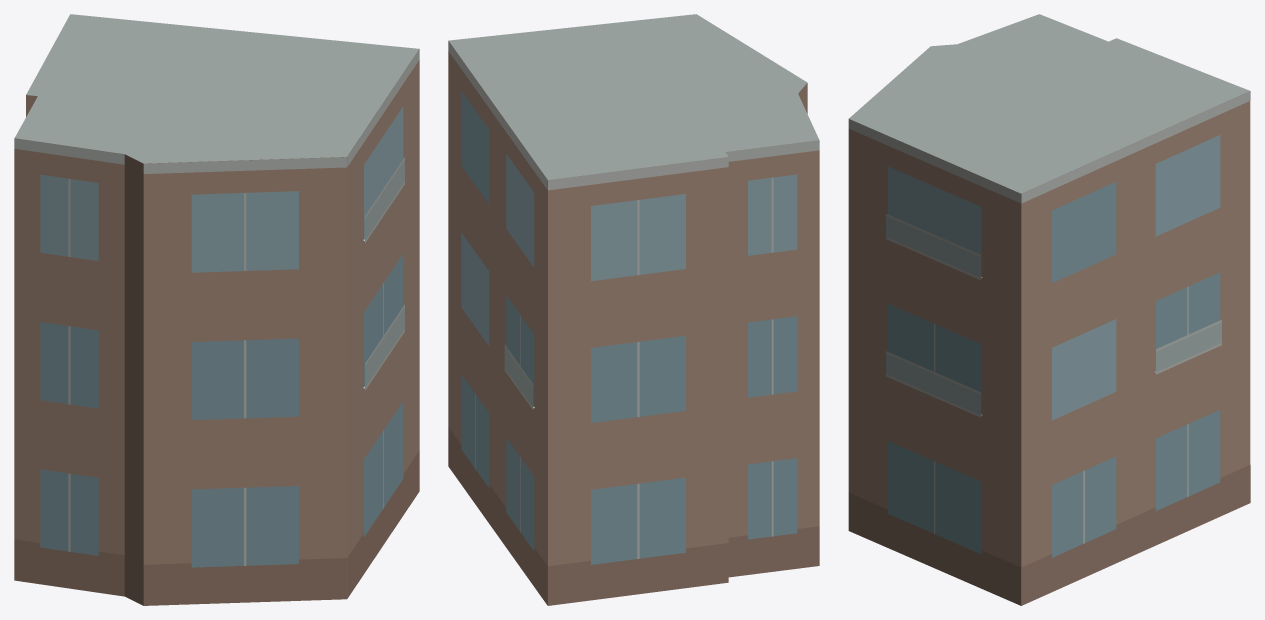
The model's file is survey-upis-32503694.glb.
The picture shows the model from 3 angles, left to right: view 1: azimuth 30°, elevation 25°; view 2: azimuth 150°, elevation 25°; view 3: azimuth 270°, elevation 25°; orthographic projection. The views are drawn at different scales.
Visible parts, largest first — view 1: survey-upis-32503694.tmp; view 2: survey-upis-32503694.tmp; view 3: survey-upis-32503694.tmp.
Boxes of the visible parts, <box> form: survey-upis-32503694.tmp: <box>14,14,419,605</box>; survey-upis-32503694.tmp: <box>448,14,819,605</box>; survey-upis-32503694.tmp: <box>848,14,1250,605</box>.
Size of the model in its own units: 9.55 by 10.2 by 9.02.
